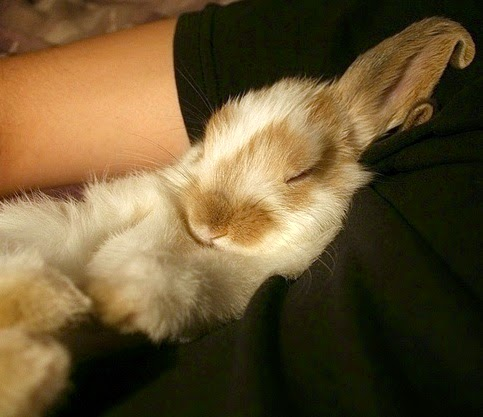bunny: (3, 20, 483, 415)
